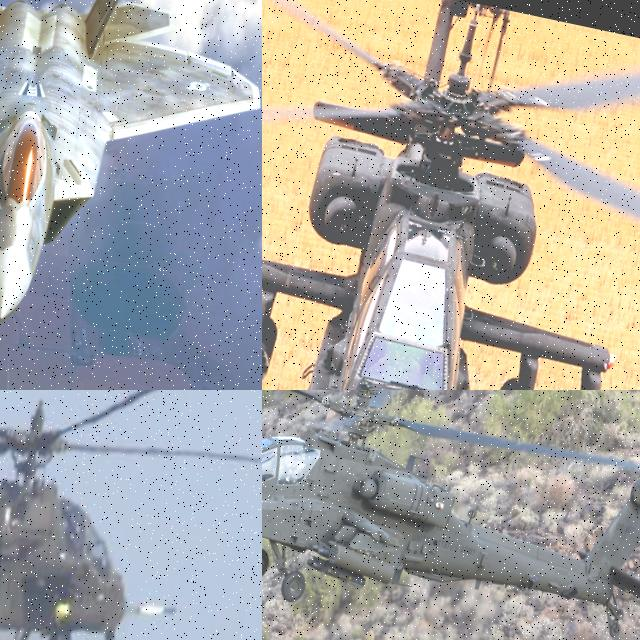Apache: (262, 0, 640, 390), (262, 390, 640, 640), (0, 390, 262, 640)
F22: (0, 0, 262, 385)
